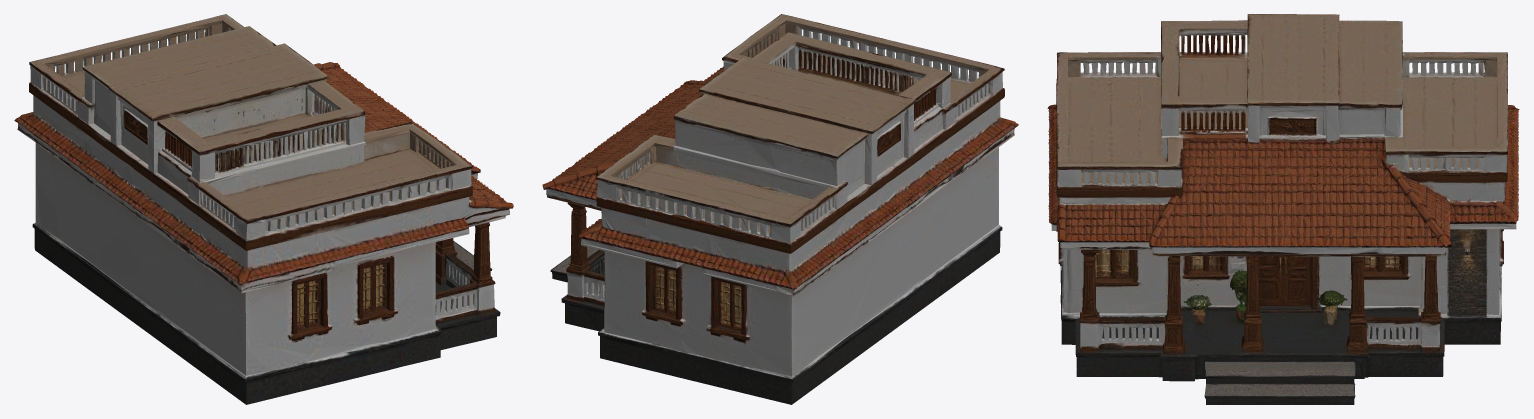
The model's file is house_south.glb.
The picture shows the model from 3 angles, left to right: view 1: azimuth 30°, elevation 25°; view 2: azimuth 150°, elevation 25°; view 3: azimuth 270°, elevation 25°; orthographic projection. The views are drawn at different scales.
Parts seen in each view (by area): view 1: tripo_node_65441724; view 2: tripo_node_65441724; view 3: tripo_node_65441724.
Part boxes in pixels (bbox=[...]): tripo_node_65441724: bbox=[14, 14, 513, 404]; tripo_node_65441724: bbox=[542, 14, 1018, 404]; tripo_node_65441724: bbox=[1047, 14, 1519, 404].
Bounding box in the file's own units: 0.8181 × 0.5297 × 0.9827.
Materials: 1 (1 with a texture image).
